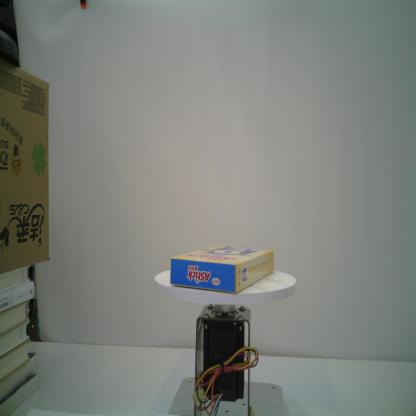Dessert: (169, 242, 275, 295)
